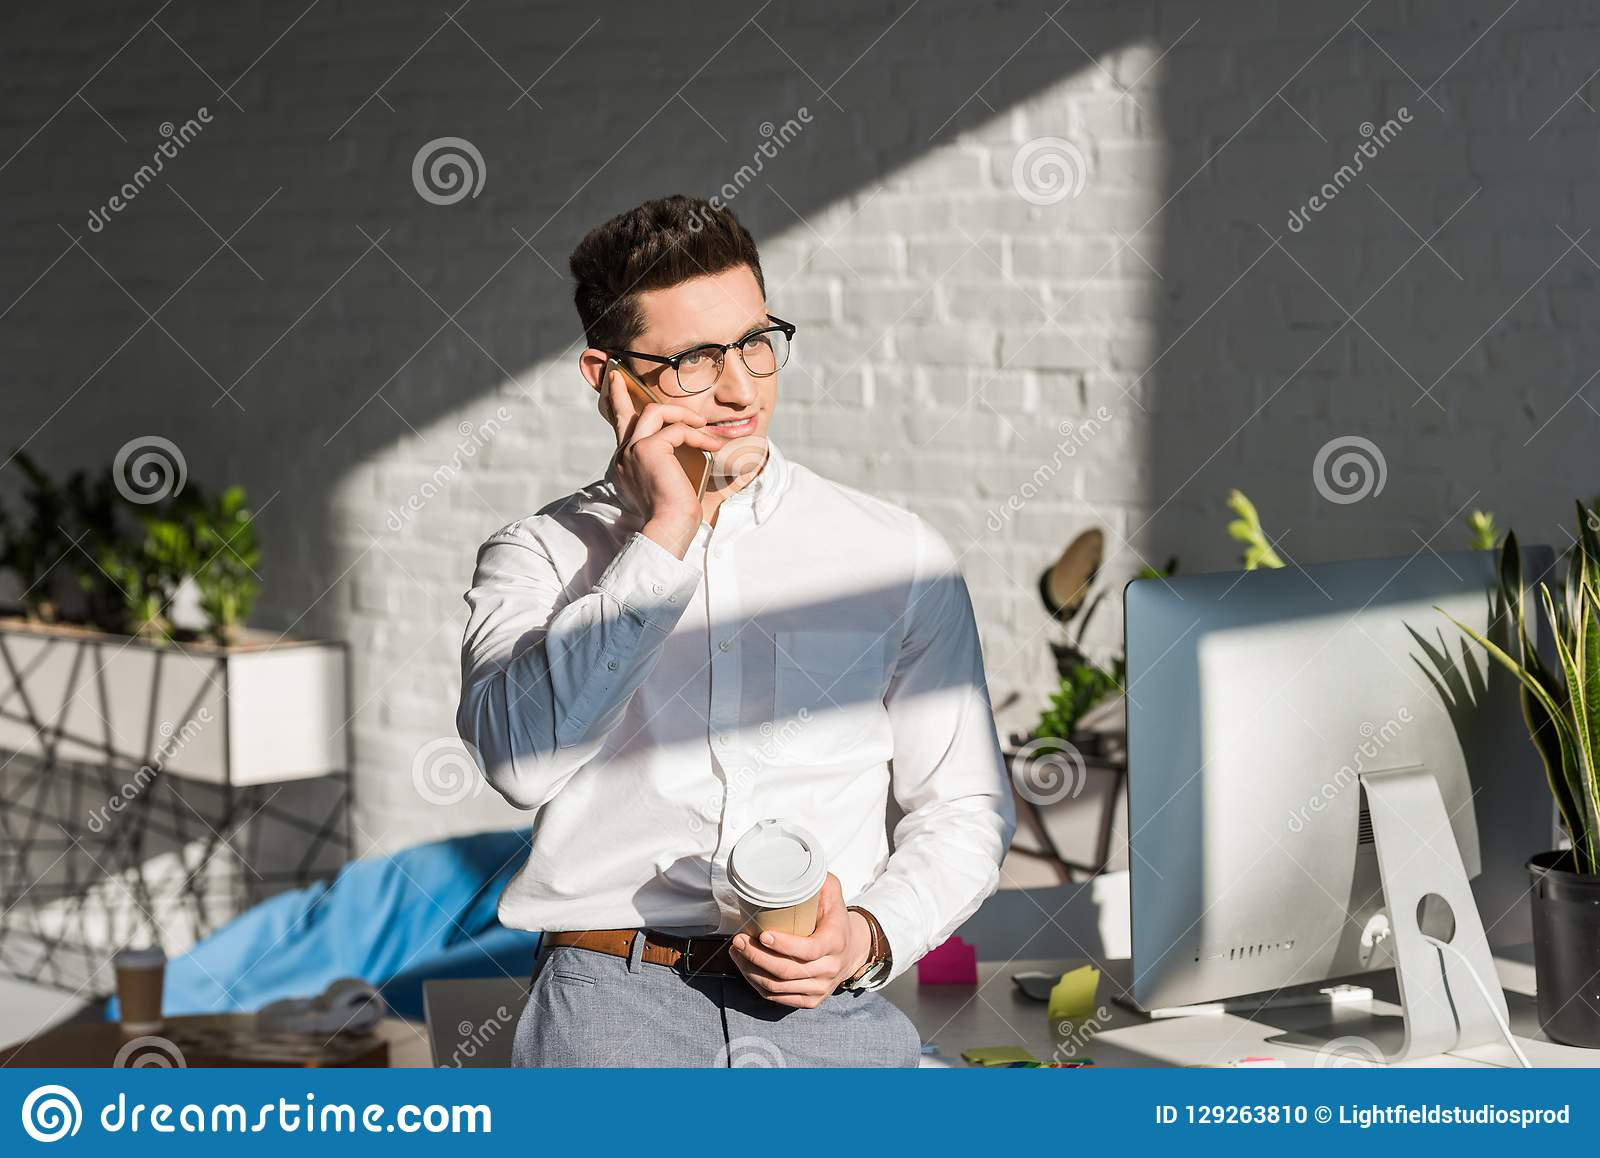phone: (595, 372, 712, 506)
talk: (598, 316, 784, 545)
